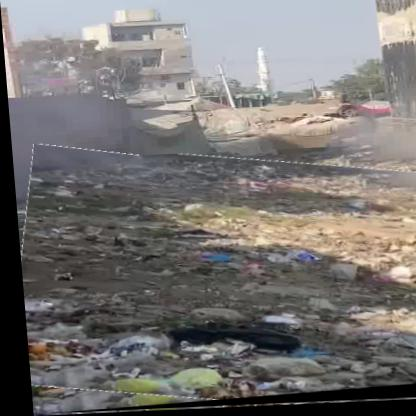Garbage: (11, 147, 416, 416)
